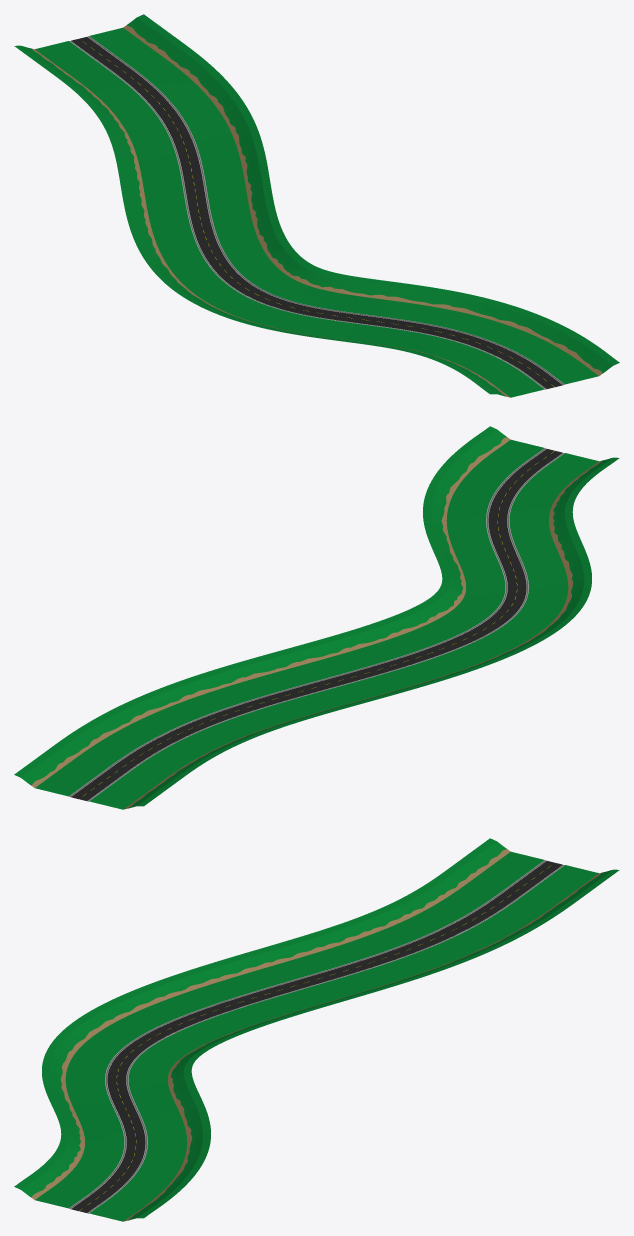
Rendered from HighWay-09.fbx.
3 views of the same model, one above another, from view 1: azimuth 30°, elevation 25°; view 2: azimuth 150°, elevation 25°; view 3: azimuth 330°, elevation 25° (orthographic).
Parts seen in each view (by area): view 1: HW-01; view 2: HW-01; view 3: HW-01.
Boxes of the visible parts, box(x1,y1,x2,y2) form: HW-01: box(14, 14, 619, 397); HW-01: box(14, 426, 619, 809); HW-01: box(14, 838, 619, 1221).
Size of what is drawn, in the model's own units: 187 by 8.26 by 597.
